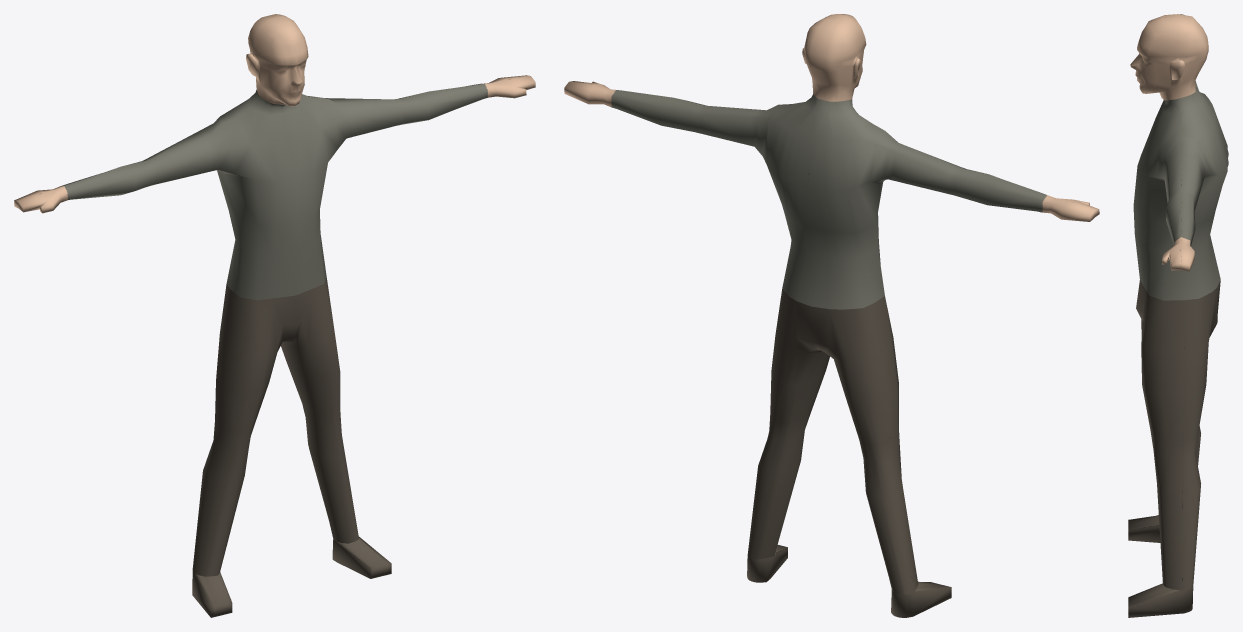
The model's file is character.fbx.
3 renders of one model, left to right at view 1: azimuth 30°, elevation 25°; view 2: azimuth 150°, elevation 25°; view 3: azimuth 270°, elevation 25°, orthographic. The views are drawn at different scales.
Visible parts, largest first — view 1: Pés; view 2: Pés; view 3: Pés.
Boxes of the visible parts, bbox=[...] form: Pés: bbox=[14, 14, 535, 617]; Pés: bbox=[564, 14, 1099, 617]; Pés: bbox=[1128, 14, 1228, 617].
Size of the model in its own units: 2584 by 2696 by 442.
1 material, 1 textured.
